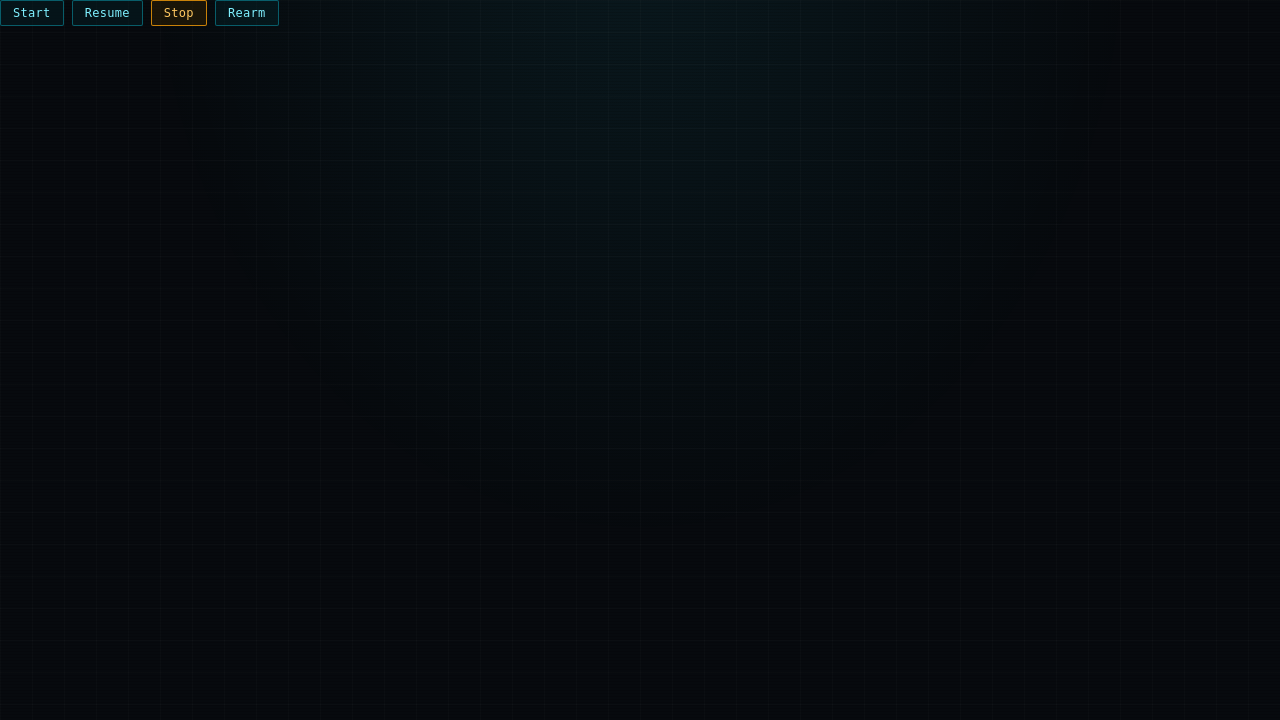
Scenario: EngineControls › asks for the password when the API requires it, then shows the engine's result
This screenshot has width=1280, height=720.
Click the button "Rearm" at (247, 13), box [215,0,278,26]
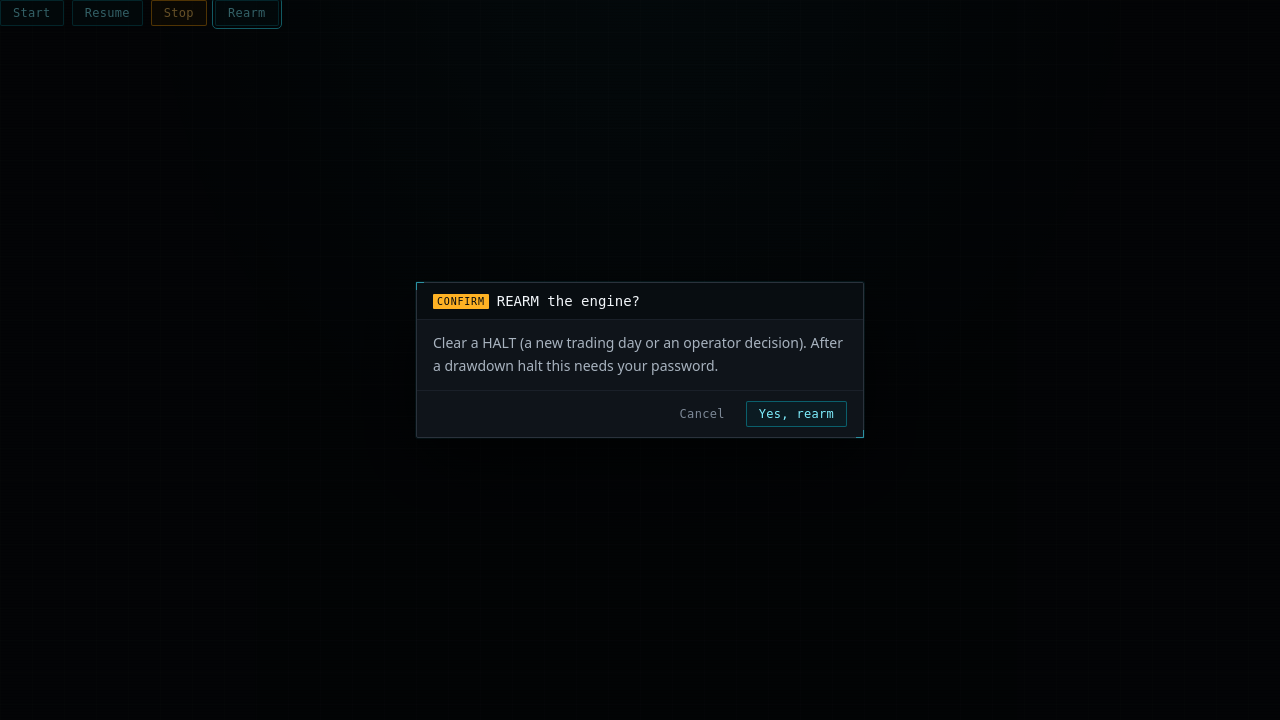
Click the button "Yes, rearm" at (796, 414), box [746,401,847,427]
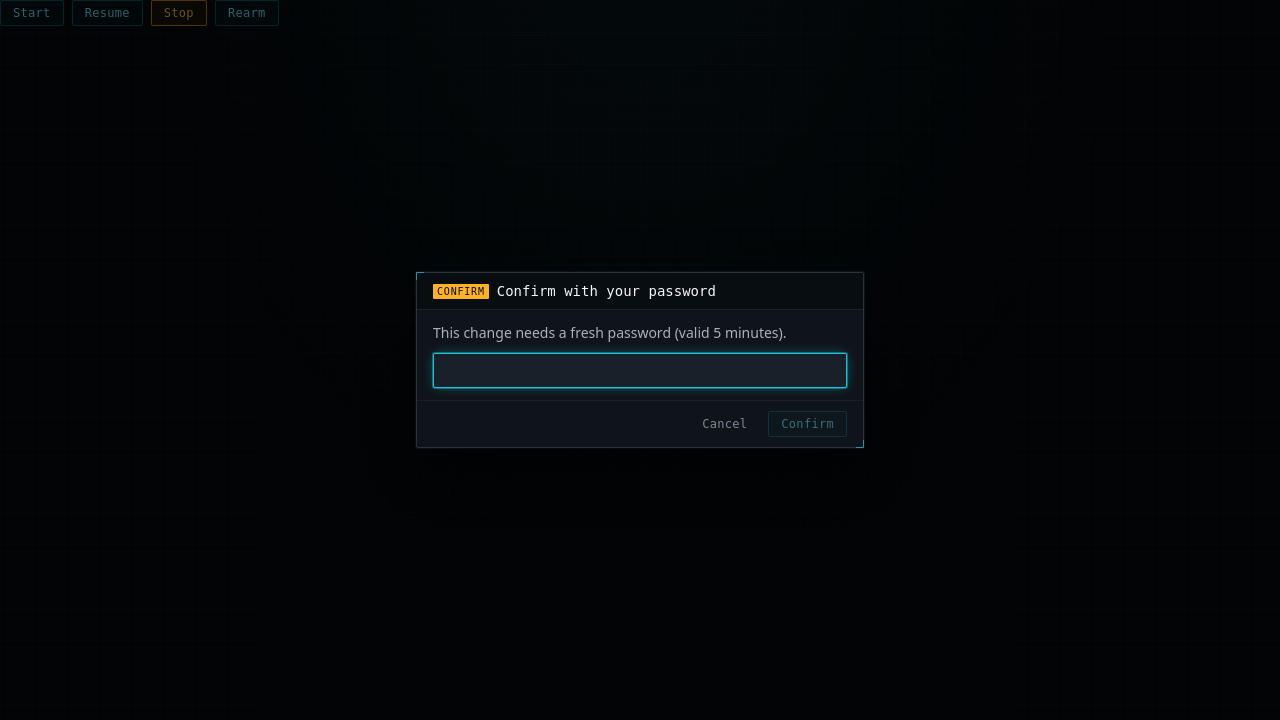
Type "correct horse battery" into the password field named "password" at (640, 370), box [433,353,847,388]
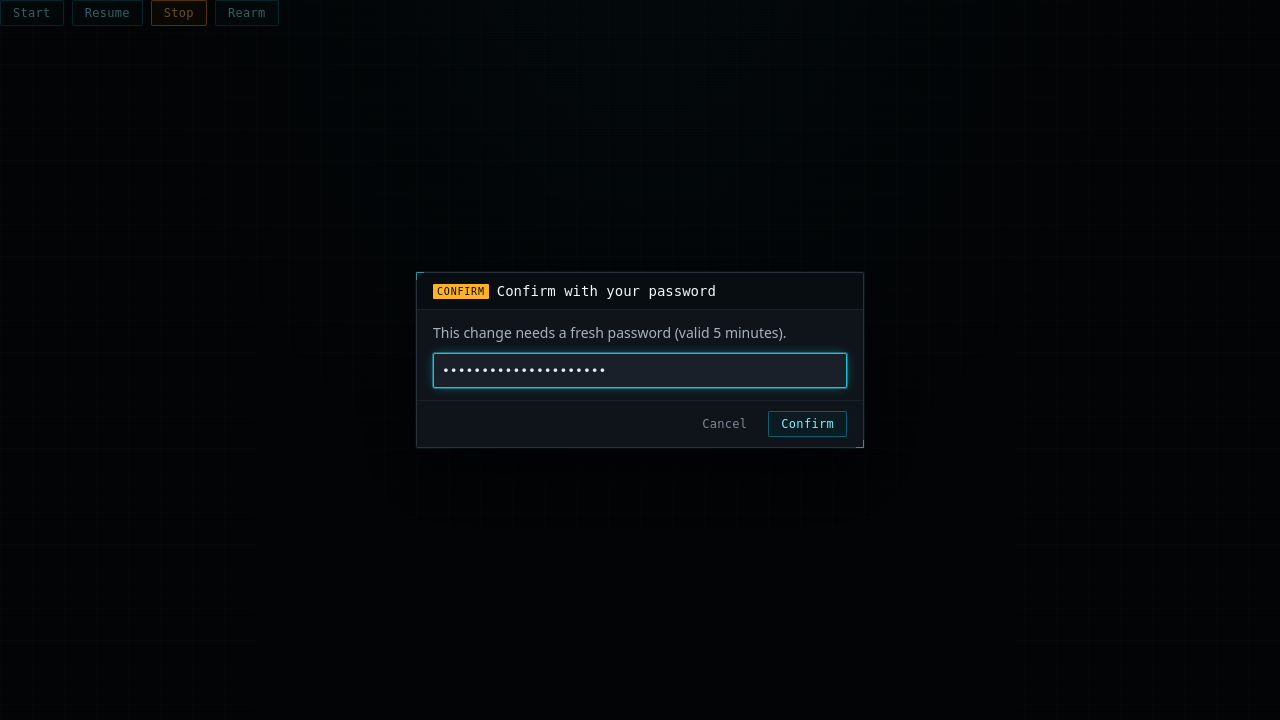
Click the button "Confirm" at (808, 424), box [768,411,847,437]
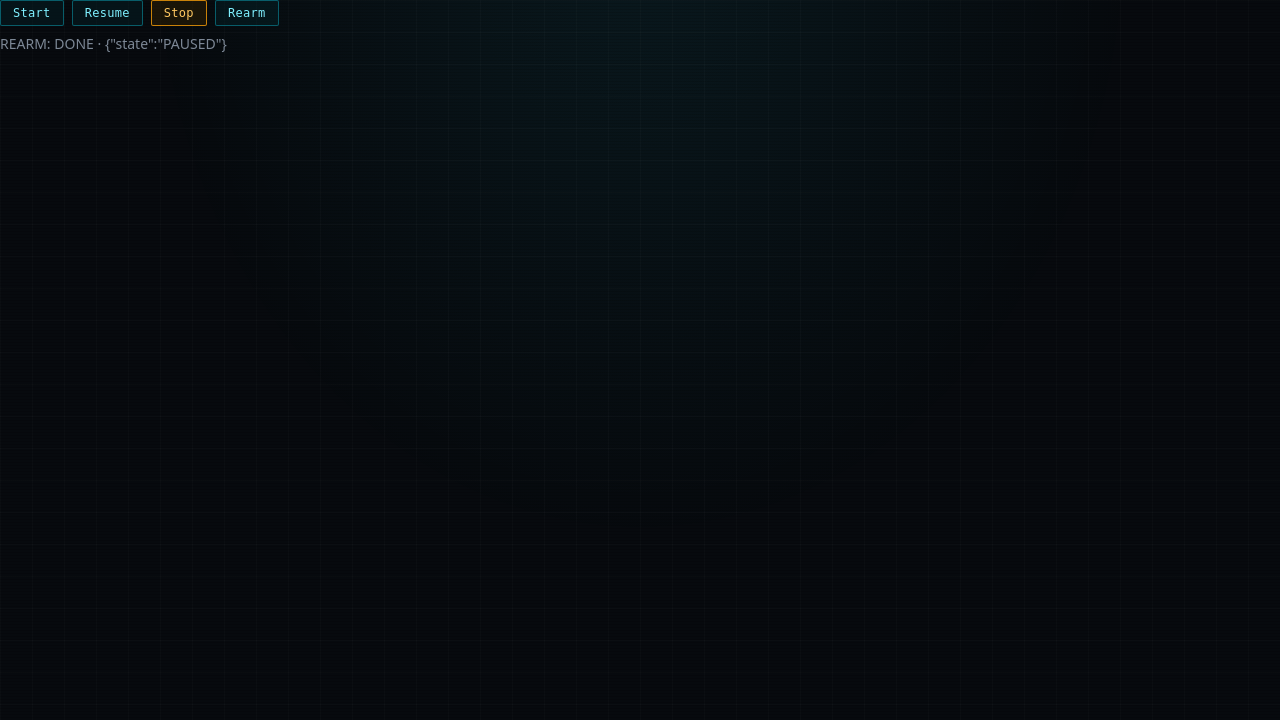
Expected: the message reads "REARM: DONE · {\"state\":\"PAUSED\"}", [0,34,227,53]
